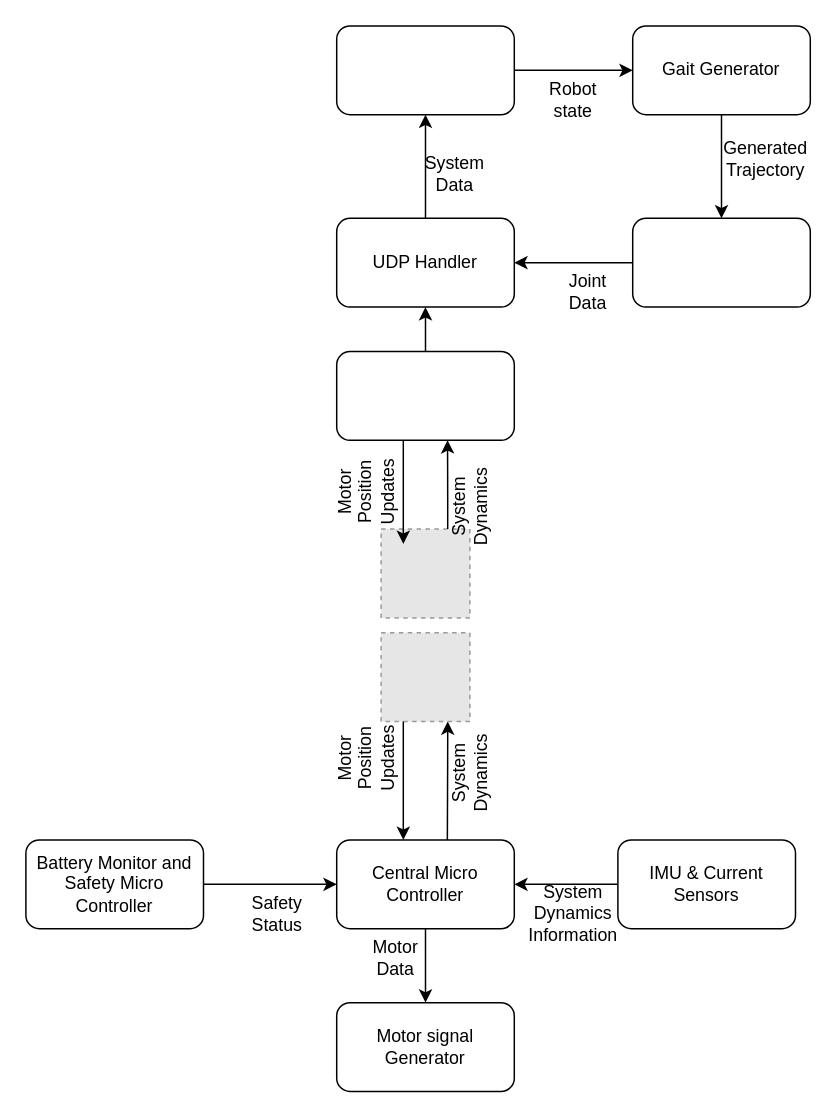
Image size: 836x1117. Some labels were removed from this diagram. Grey dashed boxes stand in for pictures. Each missing label, with the centre of its shape:
Dynamics controller: the point at 424,69
Kinematic controller: the point at 720,262
Main Computer: the point at 424,395
